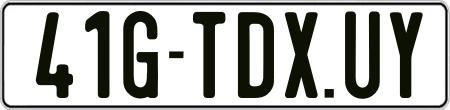1: (82, 10, 109, 102)
4: (33, 10, 74, 101)
D: (238, 10, 277, 101)
G: (121, 10, 159, 97)
T: (191, 10, 224, 100)
U: (345, 9, 385, 103)
X: (283, 12, 318, 99)
Y: (390, 11, 428, 102)
